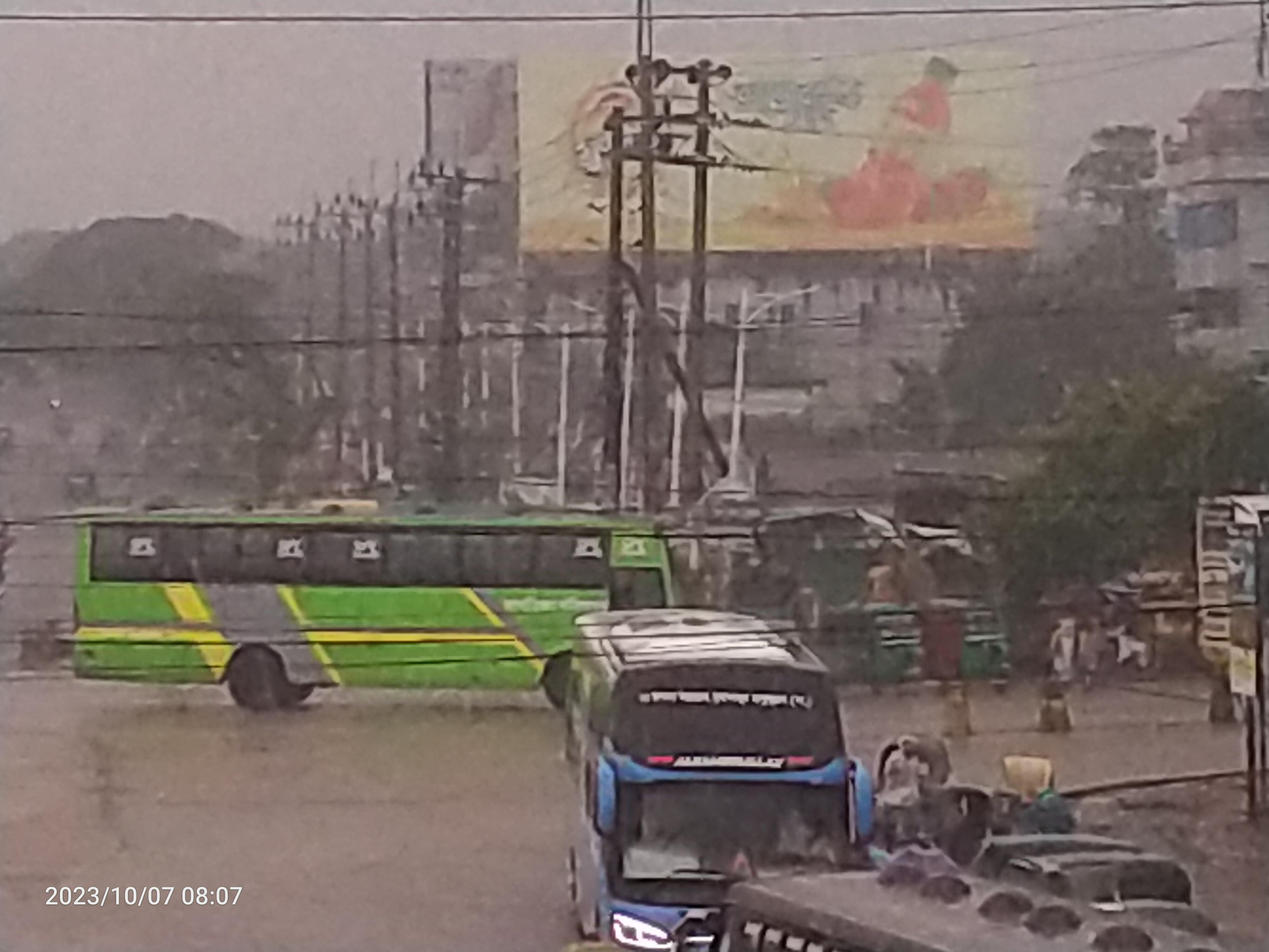Bus: (33, 480, 714, 740), (532, 585, 881, 952), (683, 823, 1249, 952)
Car: (864, 705, 982, 854)
